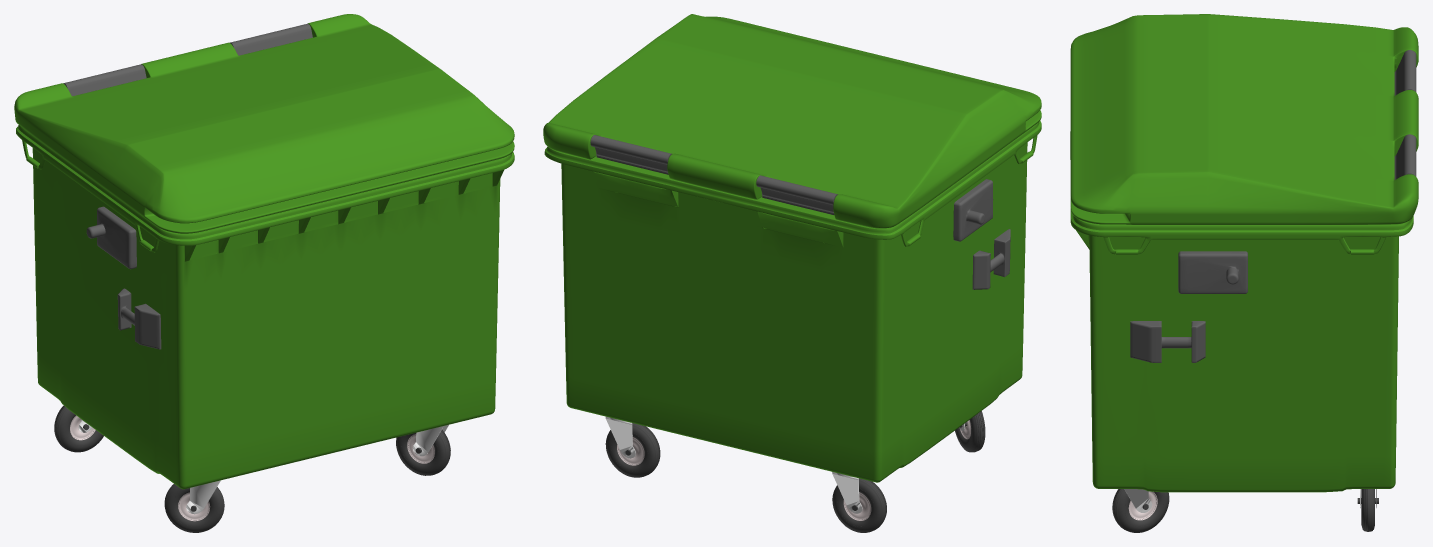
Rendered from Dumpster_800LSubDivLev1.fbx.
The picture shows the model from 3 angles, left to right: view 1: azimuth 30°, elevation 25°; view 2: azimuth 150°, elevation 25°; view 3: azimuth 270°, elevation 25°; orthographic projection. The views are drawn at different scales.
Parts seen in each view (by area): view 1: BOX, Top__P_axis_oº_to__253º_, BOX_2, Truck_conections_2, Truck_conections, Torus_1_4, Torus_1_2, Torus_1_3, Polygon_4; view 2: BOX, Top__P_axis_oº_to__253º_, BOX_2, Truck_conections_2, Torus_1, Torus_1_3, Truck_conections, Torus_1_4, Polygon, Polygon_3; view 3: BOX, Top__P_axis_oº_to__253º_, Truck_conections_2, Truck_conections, BOX_2, Torus_1_2, Torus_1, Polygon_2.
Part boxes in pixels (x1=…): BOX: x1=16, y1=125, x2=514, y2=489; Top__P_axis_oº_to__253º_: x1=14, y1=14, x2=514, y2=233; BOX_2: x1=63, y1=23, x2=312, y2=96; Truck_conections_2: x1=86, y1=206, x2=136, y2=269; Truck_conections: x1=117, y1=288, x2=161, y2=349; Torus_1_4: x1=164, y1=484, x2=224, y2=532; Torus_1_2: x1=396, y1=430, x2=450, y2=475; Torus_1_3: x1=54, y1=405, x2=103, y2=452; Polygon_4: x1=186, y1=480, x2=220, y2=514; BOX: x1=544, y1=120, x2=1041, y2=482; Top__P_axis_oº_to__253º_: x1=543, y1=14, x2=1041, y2=228; BOX_2: x1=590, y1=135, x2=837, y2=214; Truck_conections_2: x1=953, y1=179, x2=993, y2=241; Torus_1: x1=605, y1=423, x2=660, y2=477; Torus_1_3: x1=832, y1=478, x2=886, y2=532; Truck_conections: x1=972, y1=229, x2=1010, y2=289; Torus_1_4: x1=955, y1=411, x2=985, y2=452; Polygon: x1=605, y1=416, x2=635, y2=458; Polygon_3: x1=832, y1=472, x2=862, y2=513; BOX: x1=1070, y1=131, x2=1413, y2=492; Top__P_axis_oº_to__253º_: x1=1070, y1=14, x2=1418, y2=224; Truck_conections_2: x1=1178, y1=251, x2=1247, y2=293; Truck_conections: x1=1130, y1=321, x2=1205, y2=362; BOX_2: x1=1394, y1=50, x2=1416, y2=179; Torus_1_2: x1=1112, y1=489, x2=1169, y2=532; Torus_1: x1=1361, y1=489, x2=1374, y2=531; Polygon_2: x1=1124, y1=489, x2=1152, y2=512.
Size of what is drawn, in the model's own units: 138 by 133 by 109.
